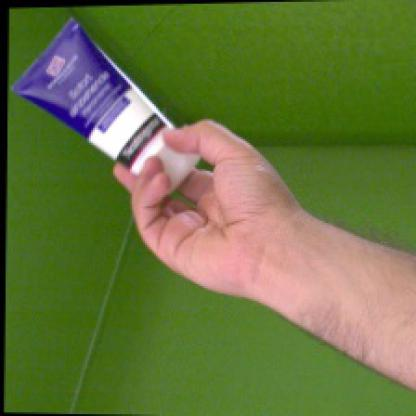Hand: (116, 119, 298, 298)
